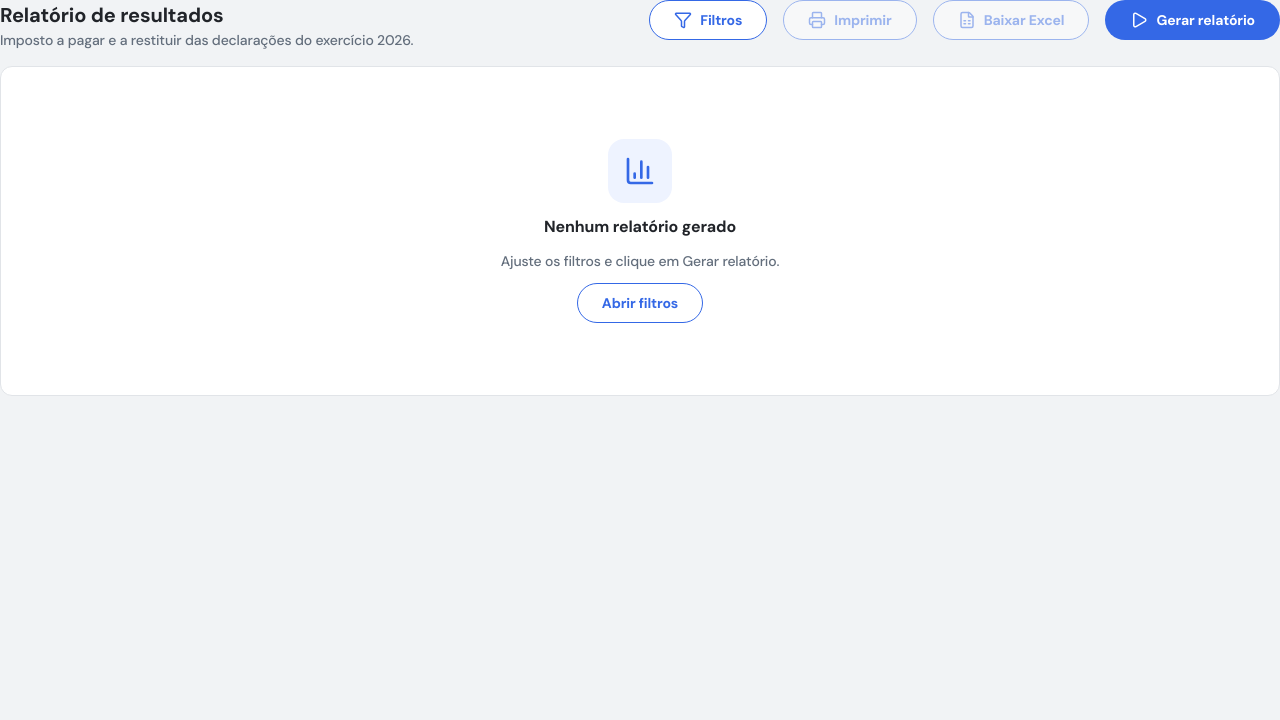
Test: relatórios gerais: paginação e impressão › relatório pequeno cabe numa página
The image size is (1280, 720).
Click the button "Gerar relatório" at (1193, 20), box [1105, 0, 1279, 40]
(page scrolled)
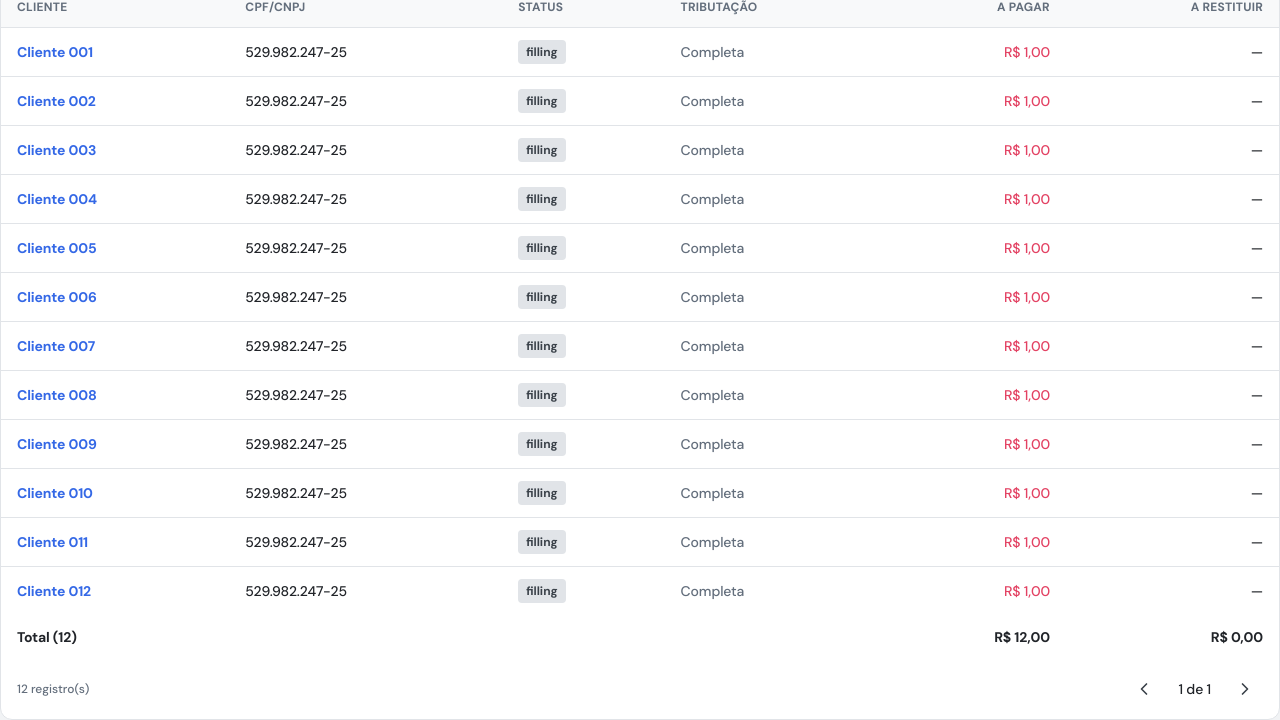
Expected: the link "Cliente 001" is shown, [17, 43, 93, 61]
Expected: the number of links is 12
Expected: the text "1 de 1" is shown, [1178, 679, 1211, 699]
